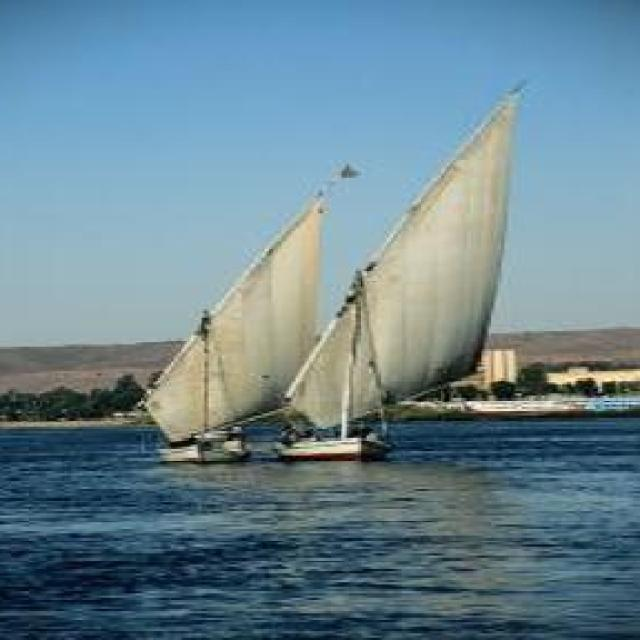sailboat: (287, 71, 527, 458), (132, 160, 332, 462)
